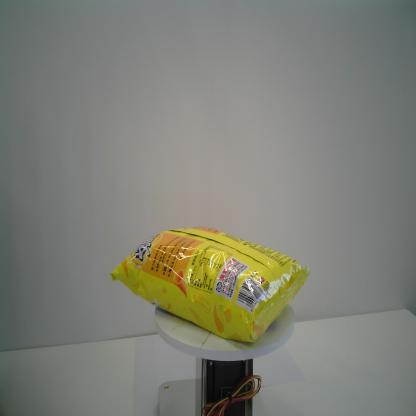Puffed Food: (109, 223, 312, 346)
